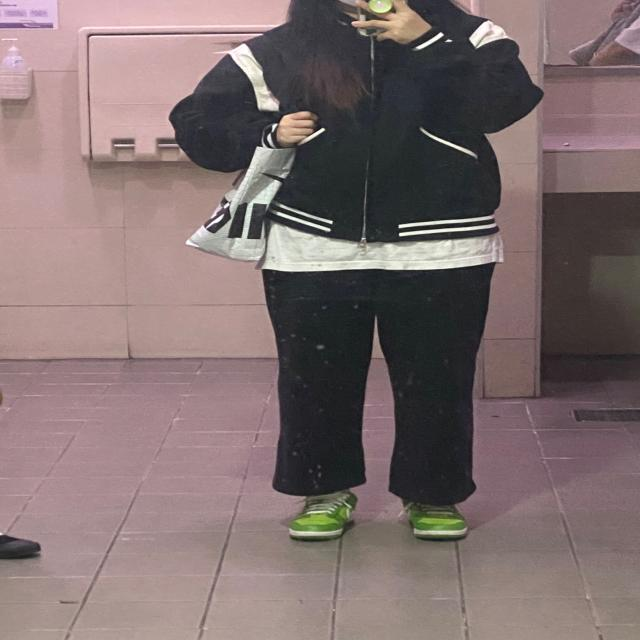jacket: (164, 5, 546, 242)
trainingpants: (259, 258, 501, 503)
